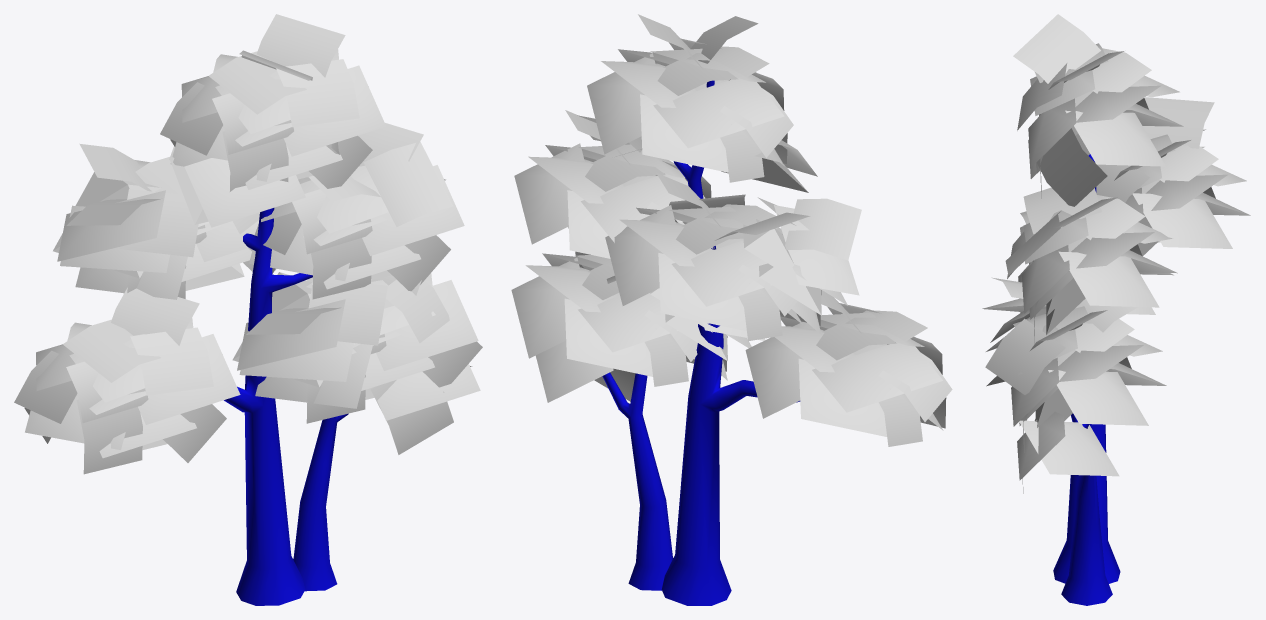
File: TreeBig2.fbx
3 renders of one model, left to right at view 1: azimuth 30°, elevation 25°; view 2: azimuth 150°, elevation 25°; view 3: azimuth 270°, elevation 25°, orthographic. The views are drawn at different scales.
Parts seen in each view (by area): view 1: ThanCay-Low.016; view 2: ThanCay-Low.016; view 3: ThanCay-Low.016.
Part boxes in pixels (bbox=[...]): ThanCay-Low.016: bbox=[14, 14, 482, 605]; ThanCay-Low.016: bbox=[511, 14, 952, 605]; ThanCay-Low.016: bbox=[982, 14, 1250, 605].
Size of the model in its own units: 3.75 by 4.67 by 2.11.
